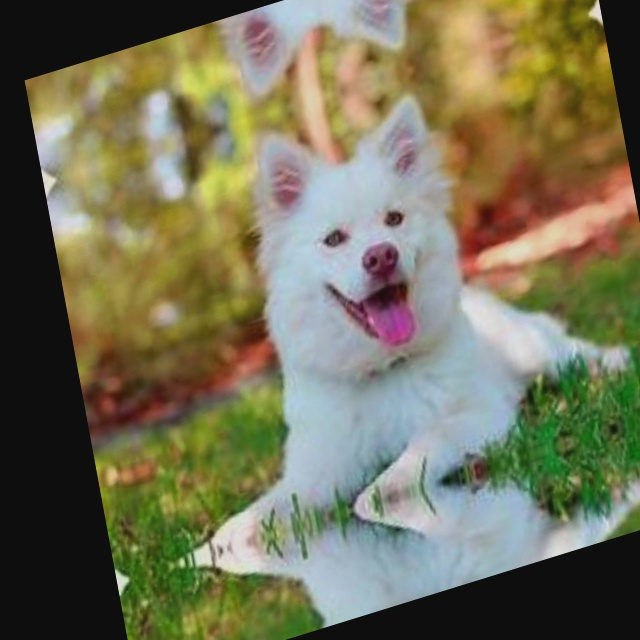dog: (197, 62, 617, 536), (264, 427, 636, 640), (172, 0, 537, 103)
